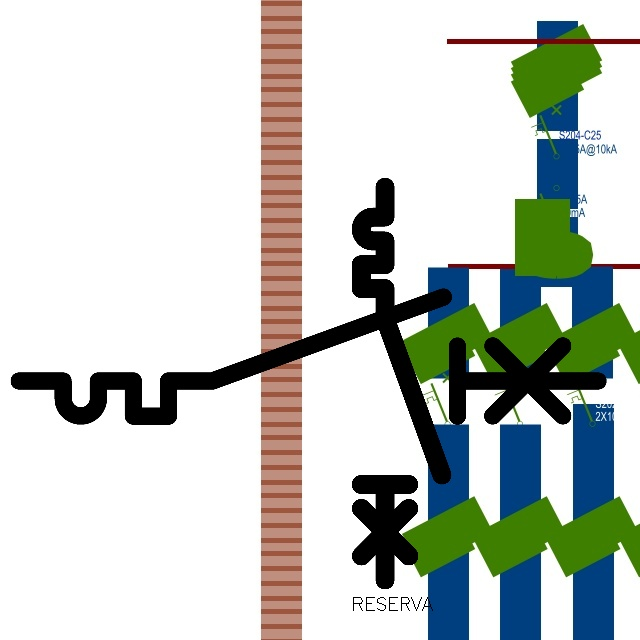interruptor_termomagnetico: (4, 282, 613, 431), (351, 177, 452, 590)
